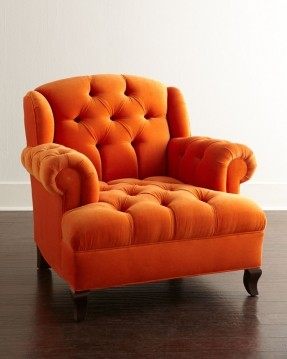chairs: (12, 75, 265, 319)
